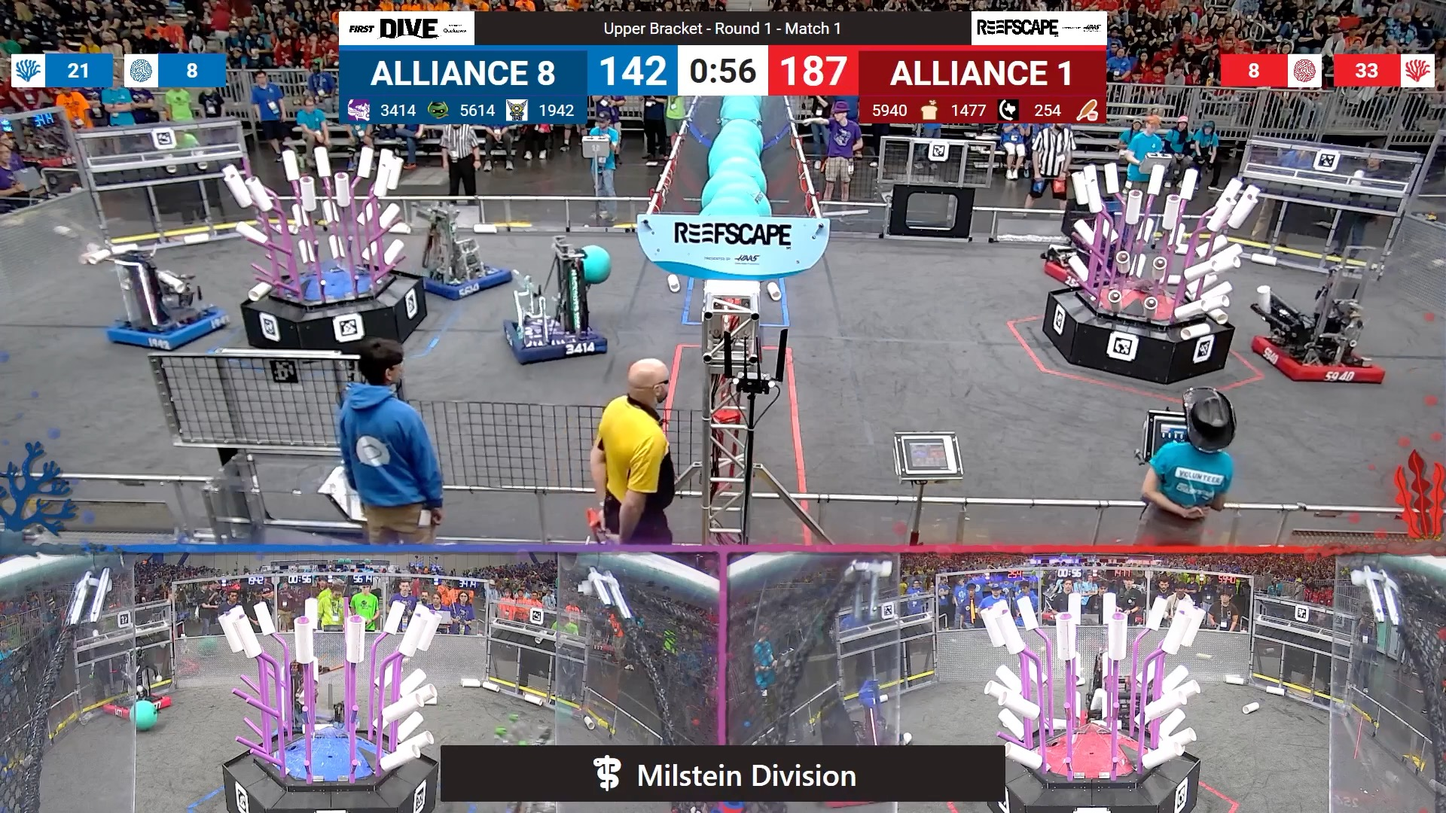bumpers: (1239, 325, 1394, 390), (105, 301, 237, 353), (501, 318, 613, 368), (409, 260, 520, 304), (99, 687, 178, 722)
